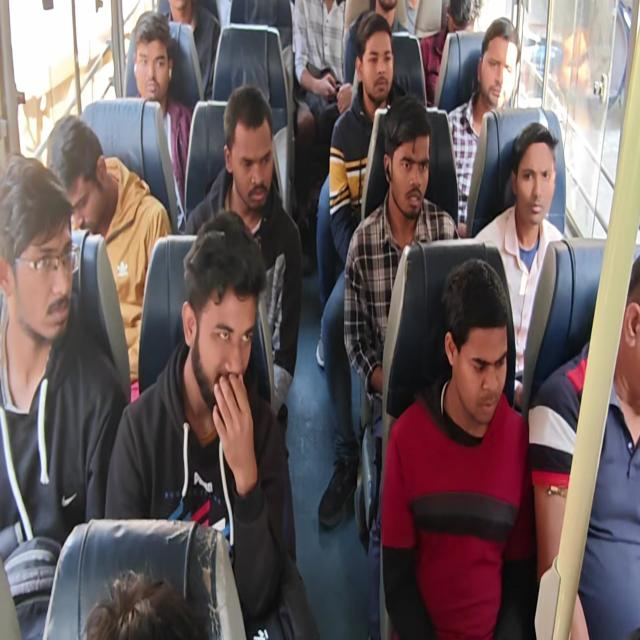person: (0, 165, 82, 346), (427, 308, 516, 430), (194, 257, 248, 393), (42, 124, 102, 226), (226, 105, 278, 217), (382, 118, 430, 209), (472, 27, 522, 113), (123, 30, 177, 106), (517, 143, 557, 238), (434, 0, 480, 53), (359, 38, 394, 104), (158, 0, 200, 31), (367, 0, 408, 24)
